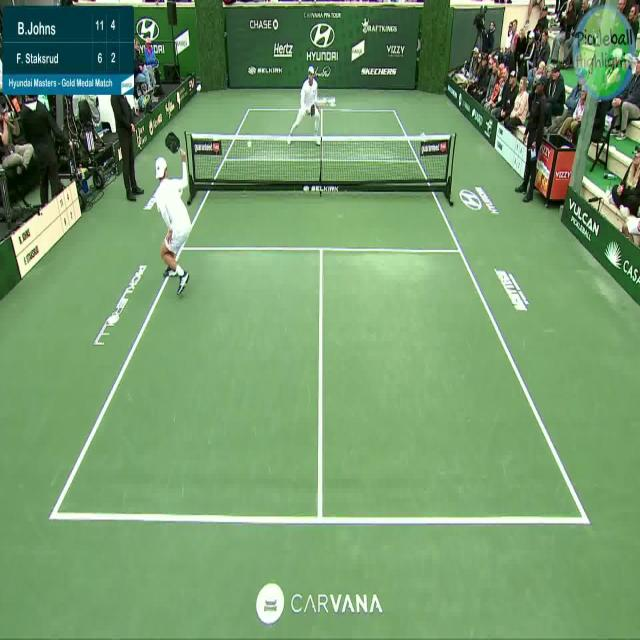Court: (50, 107, 586, 519)
ball: (246, 138, 254, 150)
